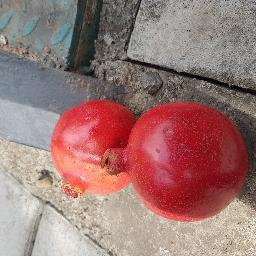Good_pomegranate: (128, 93, 246, 224), (52, 101, 129, 199)
